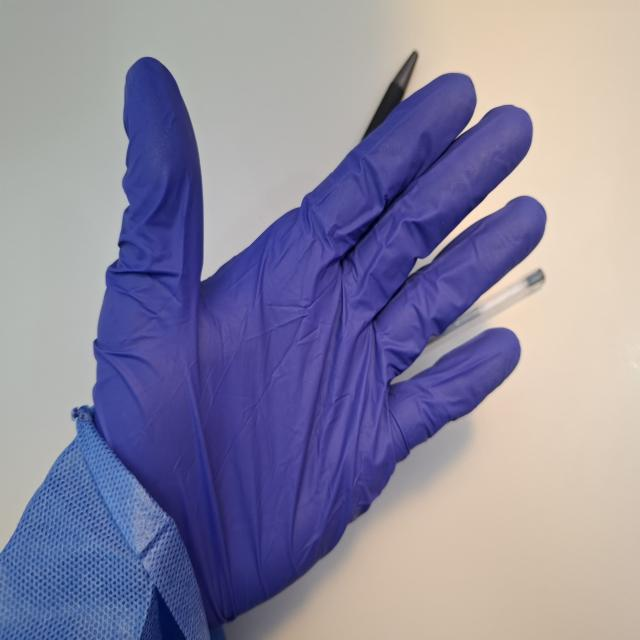glove_on: (86, 54, 550, 632)
